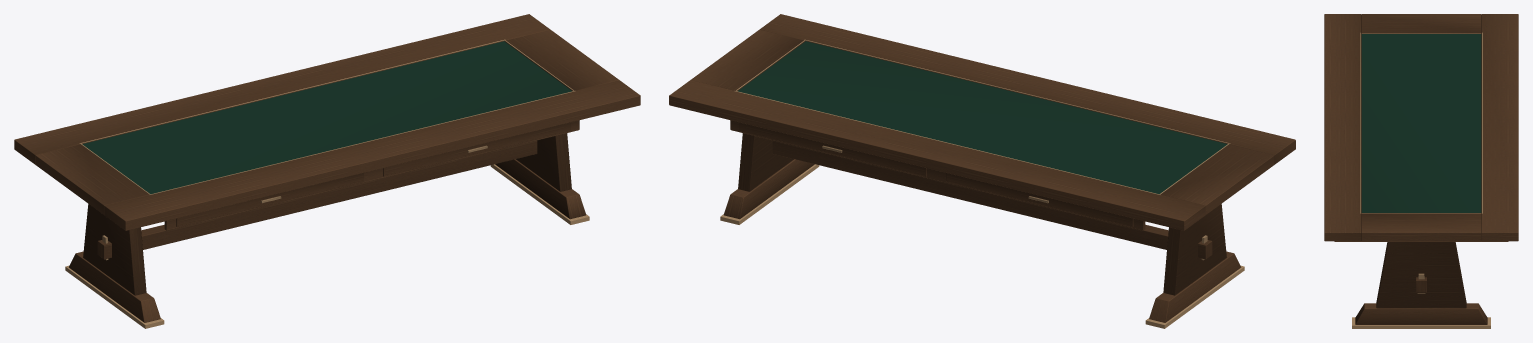
Rendered from library_table.gltf.
The picture shows the model from 3 angles, left to right: view 1: azimuth 30°, elevation 25°; view 2: azimuth 150°, elevation 25°; view 3: azimuth 270°, elevation 25°; orthographic projection. The views are drawn at different scales.
Parts seen in each view (by area): view 1: LibraryTable_Wood, LibraryTable_Leather, LibraryTable_Bronze; view 2: LibraryTable_Wood, LibraryTable_Leather, LibraryTable_Bronze; view 3: LibraryTable_Wood, LibraryTable_Leather, LibraryTable_Bronze.
Boxes of the visible parts, box(x1,y1,x2,y2) form: LibraryTable_Wood: box(14, 14, 640, 322); LibraryTable_Leather: box(82, 41, 571, 194); LibraryTable_Bronze: box(65, 39, 589, 328); LibraryTable_Wood: box(669, 14, 1295, 322); LibraryTable_Leather: box(738, 41, 1227, 194); LibraryTable_Bronze: box(720, 39, 1244, 328); LibraryTable_Wood: box(1324, 14, 1518, 324); LibraryTable_Leather: box(1361, 34, 1481, 212); LibraryTable_Bronze: box(1352, 32, 1490, 328).
Size of the model in its own units: 3.2 by 0.7614 by 1.2.
3 materials, 1 textured.
